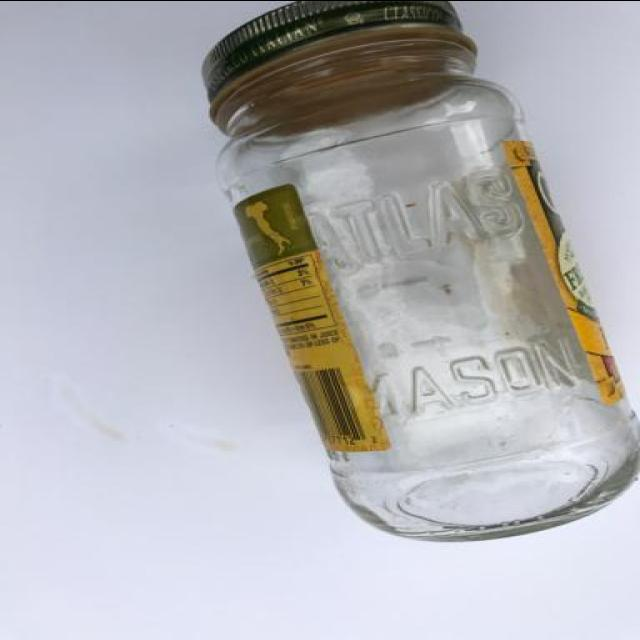Glass Bottle: (198, 1, 638, 546)
